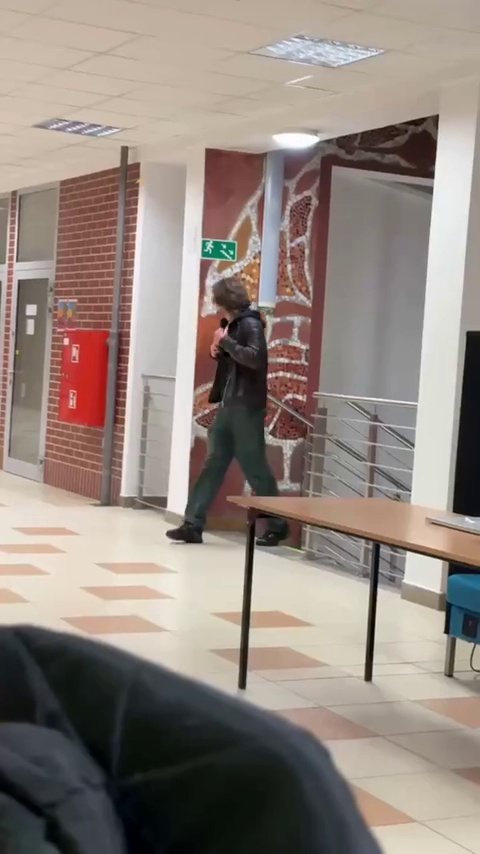no vest: (177, 276, 293, 547)
